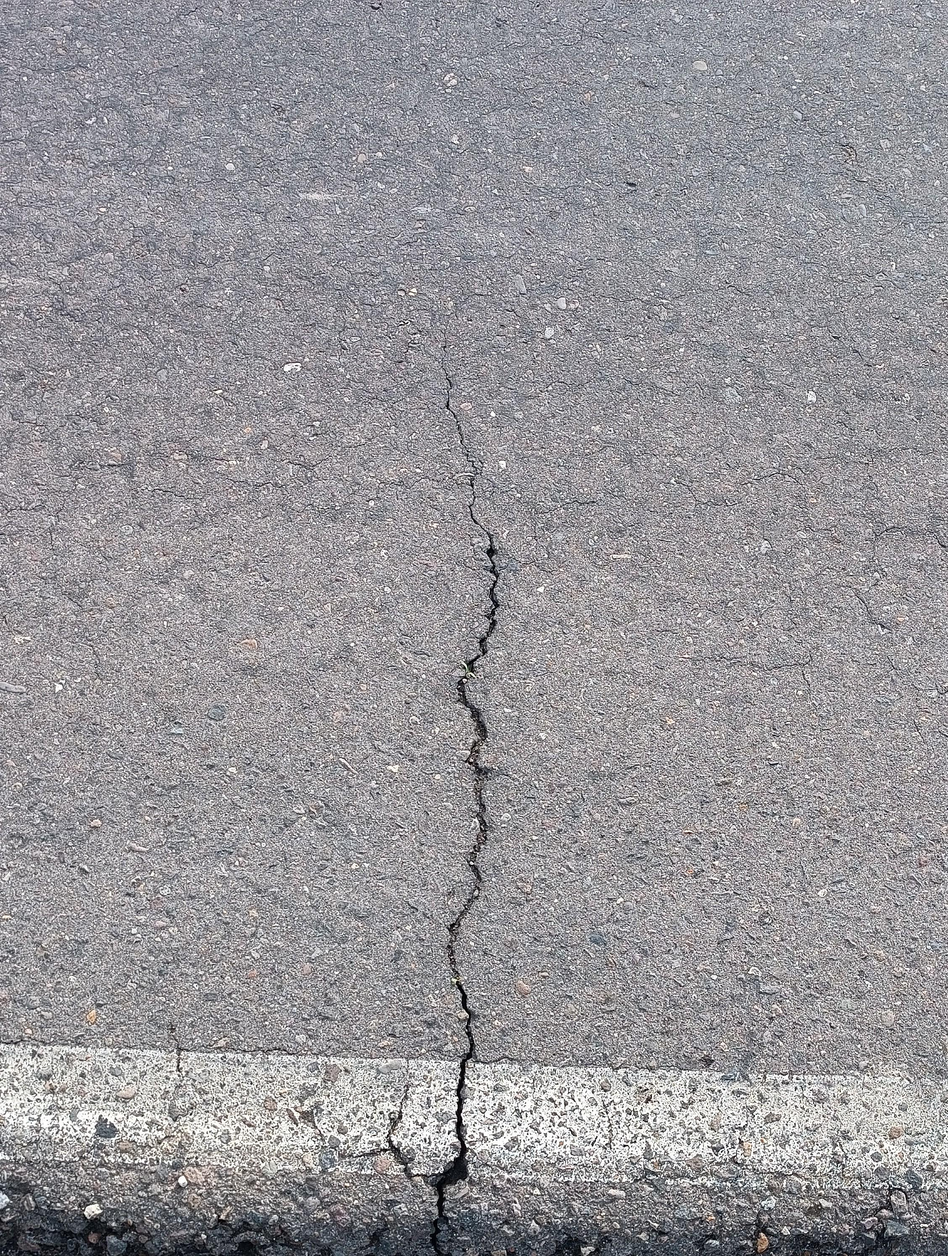GRIETA: (428, 366, 501, 1253)
PIEL DE COCODRILO: (598, 407, 948, 808), (0, 198, 415, 535)
